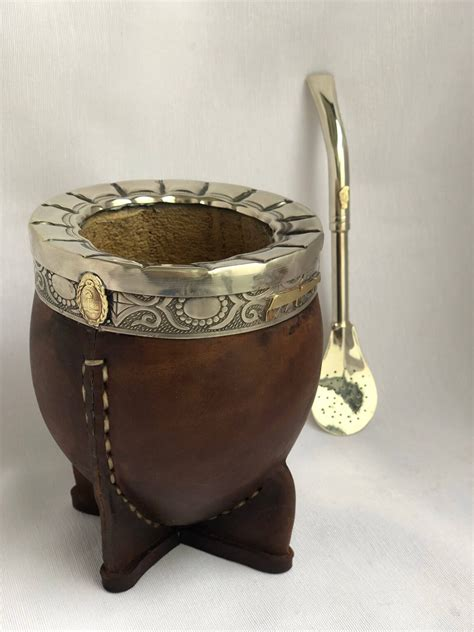cuero: (29, 292, 324, 594)
